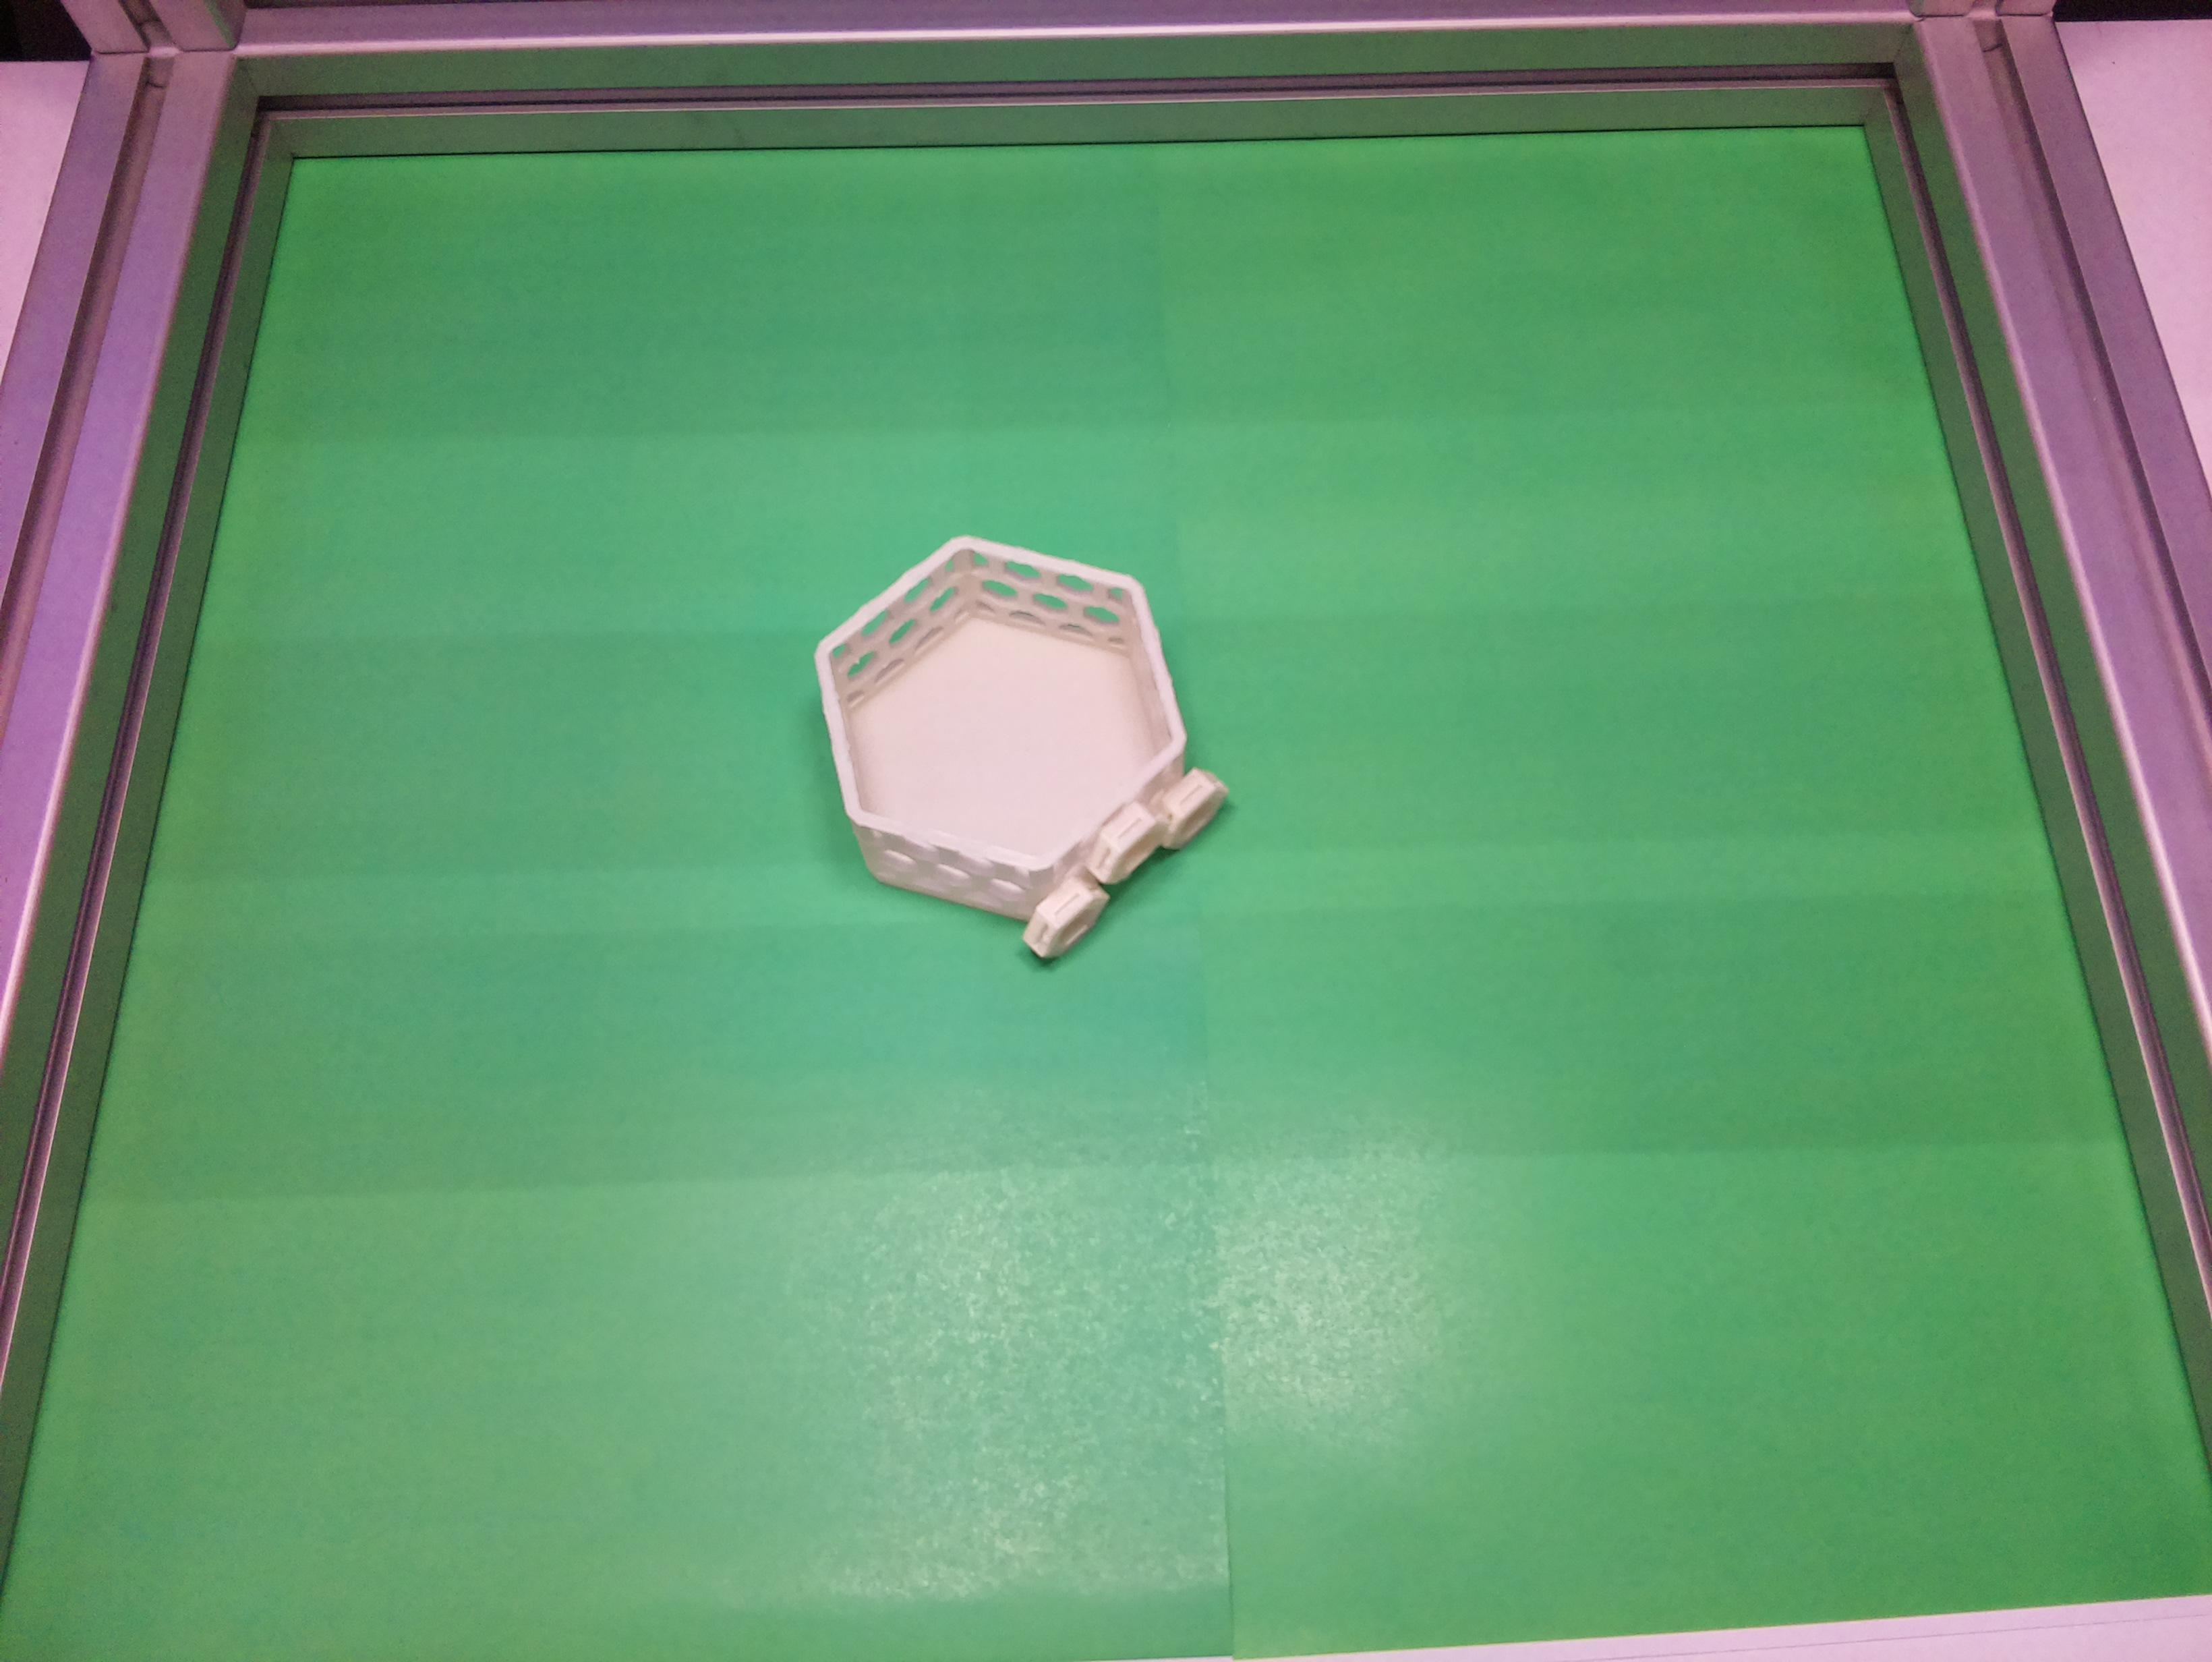bottle_holder: (765, 478, 1261, 1009)
